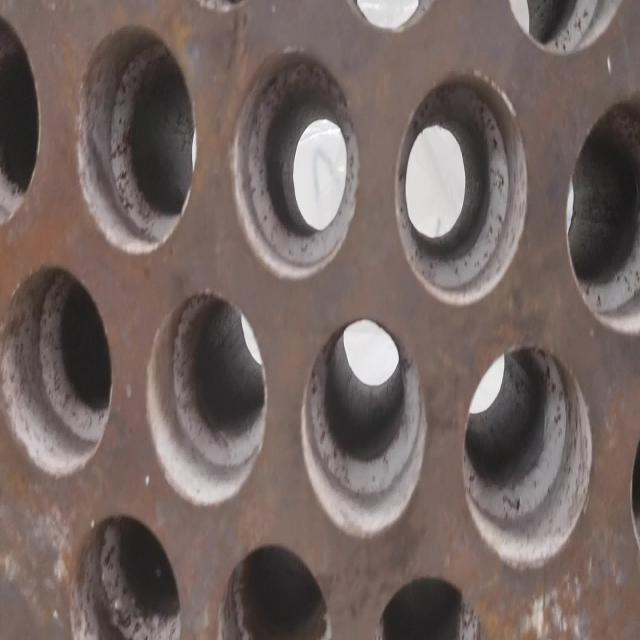Hole: (394, 72, 528, 308), (462, 340, 594, 568), (231, 47, 360, 280), (74, 22, 198, 254), (300, 314, 428, 538), (145, 288, 268, 507), (2, 264, 114, 476), (566, 94, 640, 336), (69, 510, 182, 640), (218, 542, 332, 639), (0, 6, 40, 224)
